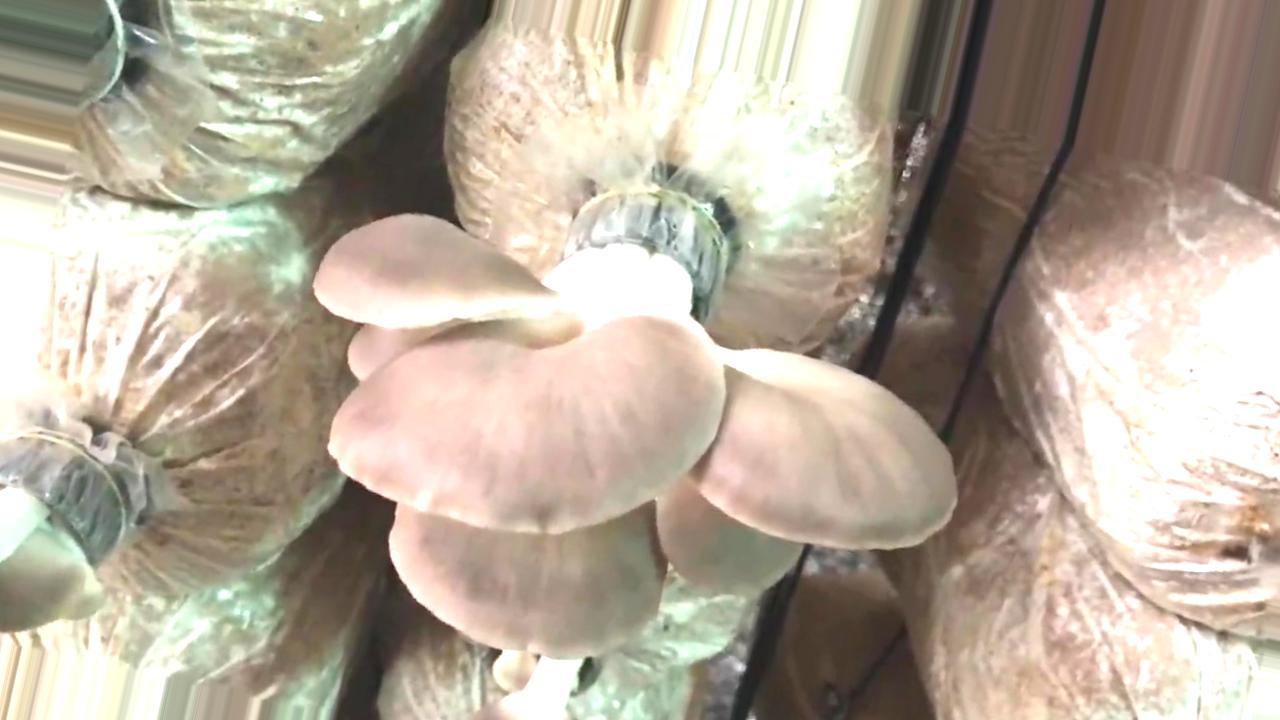nam: (318, 189, 957, 661), (1, 435, 129, 632)
